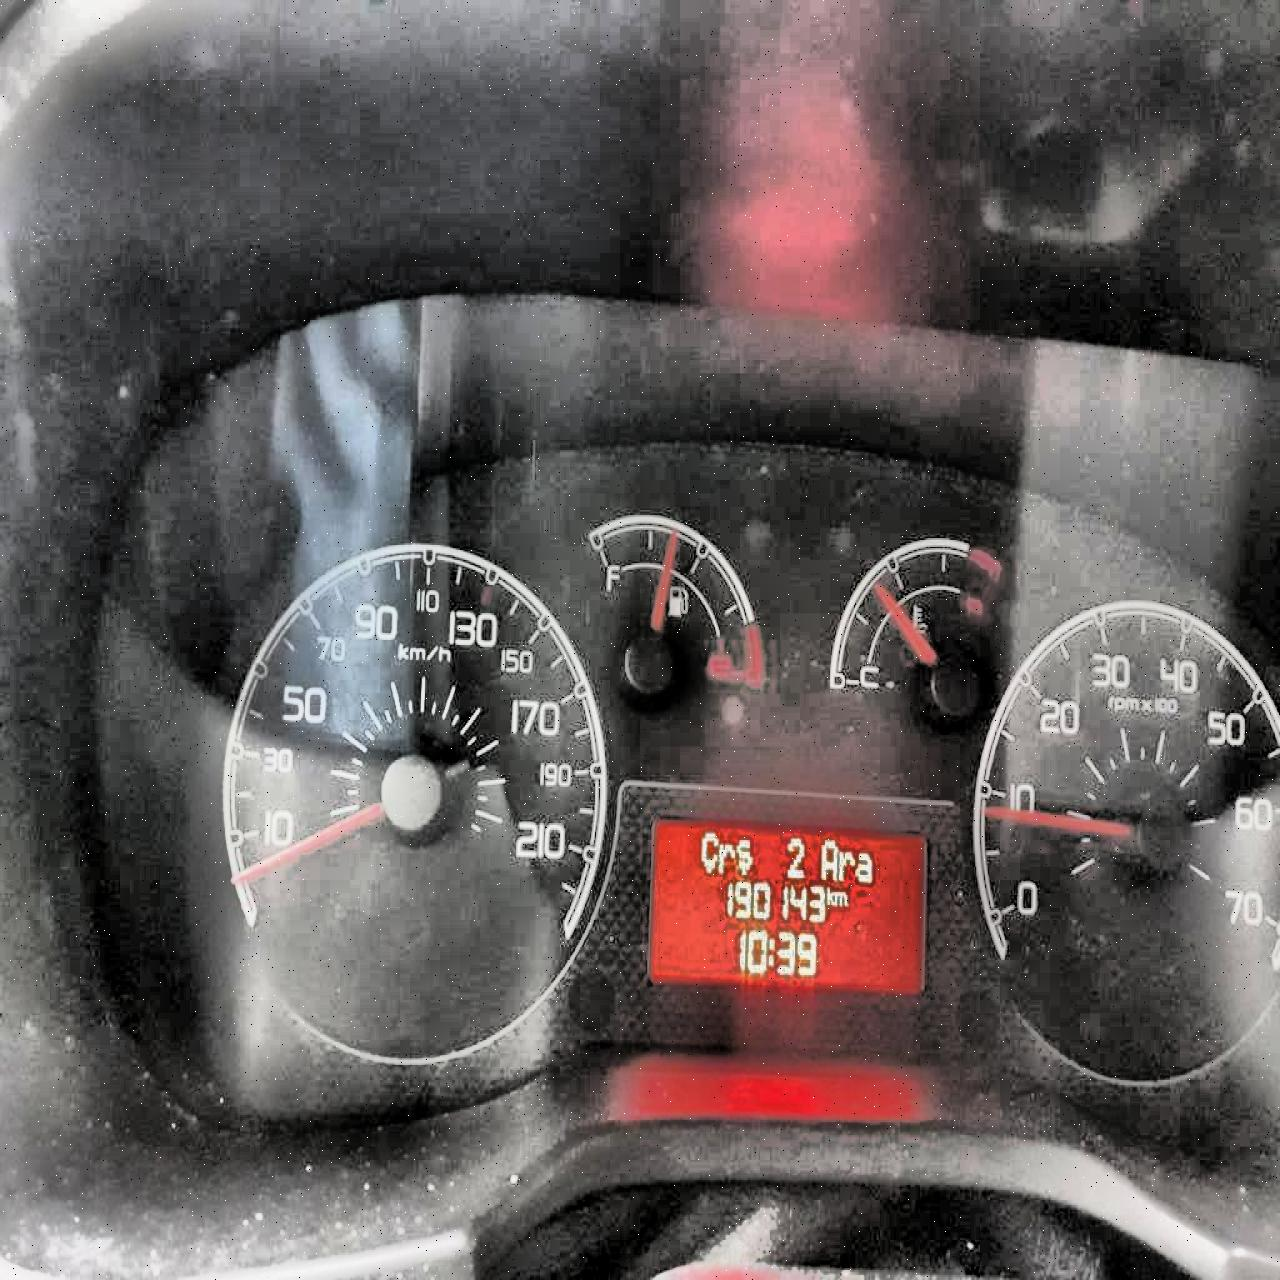0: (748, 927, 767, 973), (753, 880, 769, 918)
1: (738, 928, 747, 979), (724, 878, 734, 919), (779, 880, 789, 920)
2: (785, 833, 805, 878)
3: (776, 930, 794, 973), (808, 884, 824, 924)
4: (789, 881, 806, 920)
9: (796, 930, 816, 975), (734, 878, 751, 917)
X: (700, 829, 717, 873), (735, 837, 754, 876), (821, 837, 836, 878), (856, 849, 873, 881), (837, 850, 855, 880), (717, 840, 734, 872), (832, 888, 849, 907), (768, 934, 775, 968), (825, 885, 835, 905)
odometer: (641, 810, 935, 1002)
